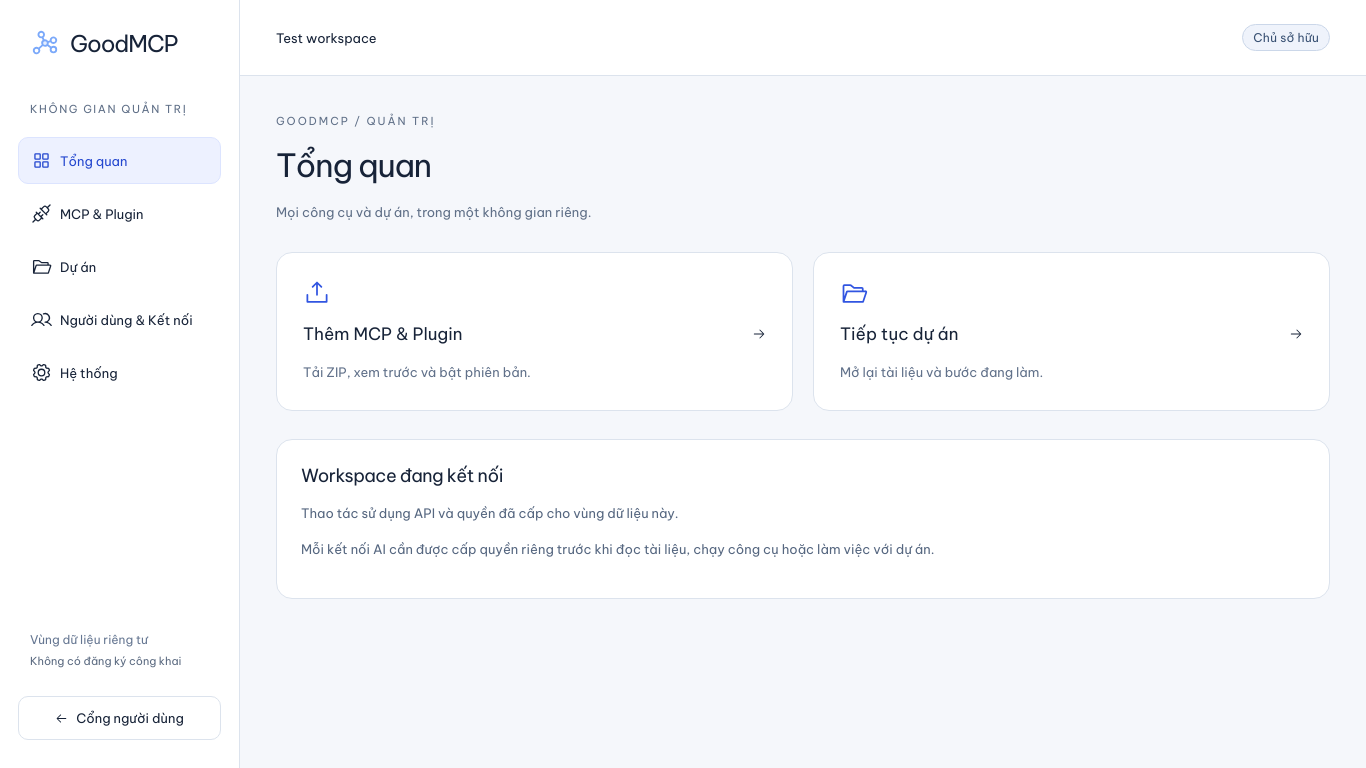
it: admin boundaries and real API mappings › has exactly five groups and no invented system metrics
The image size is (1366, 768).
Click the button "Hệ thống" at x=120, y=373, box [18, 349, 221, 396]
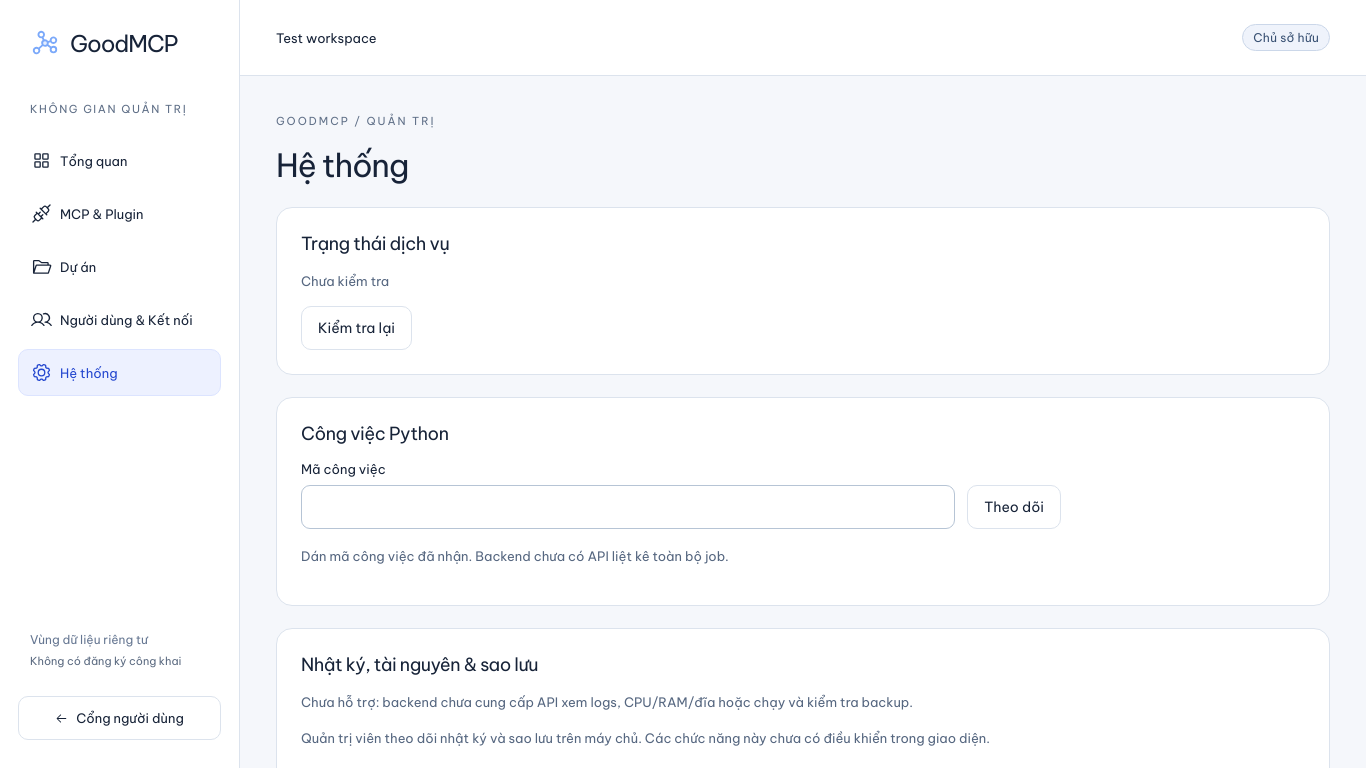
Check: the text "backend chưa cung cấp API xem logs" is shown, box [301, 694, 913, 710]
Check: the text "Chưa kiểm tra" is shown, box [301, 273, 389, 289]
